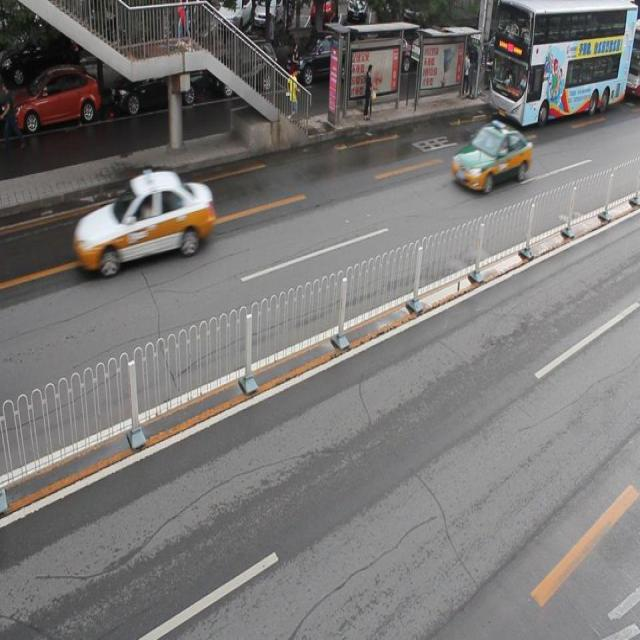car: (74, 170, 214, 276), (108, 48, 200, 114), (10, 68, 99, 133), (450, 121, 530, 192), (209, 36, 276, 100), (283, 31, 352, 88)
van: (485, 1, 632, 127)
